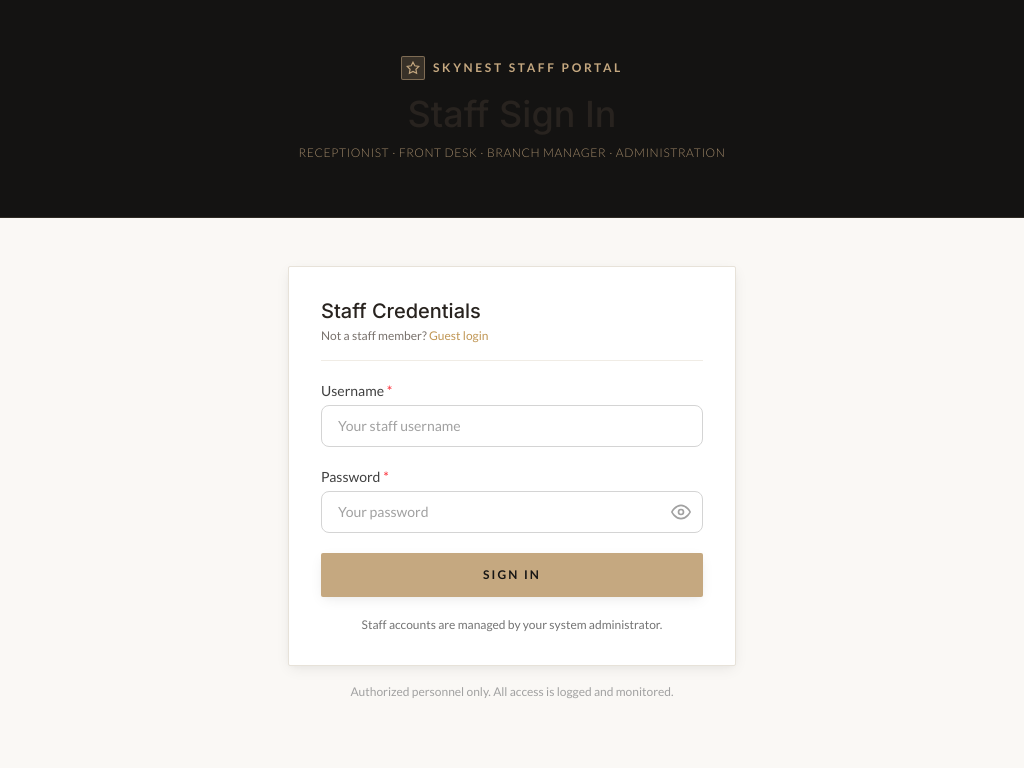
Test: StaffLoginPage - client validation › shows required-field errors when form is submitted empty
Click the button "Sign In". click: [512, 575]
box: [321,553,703,597]
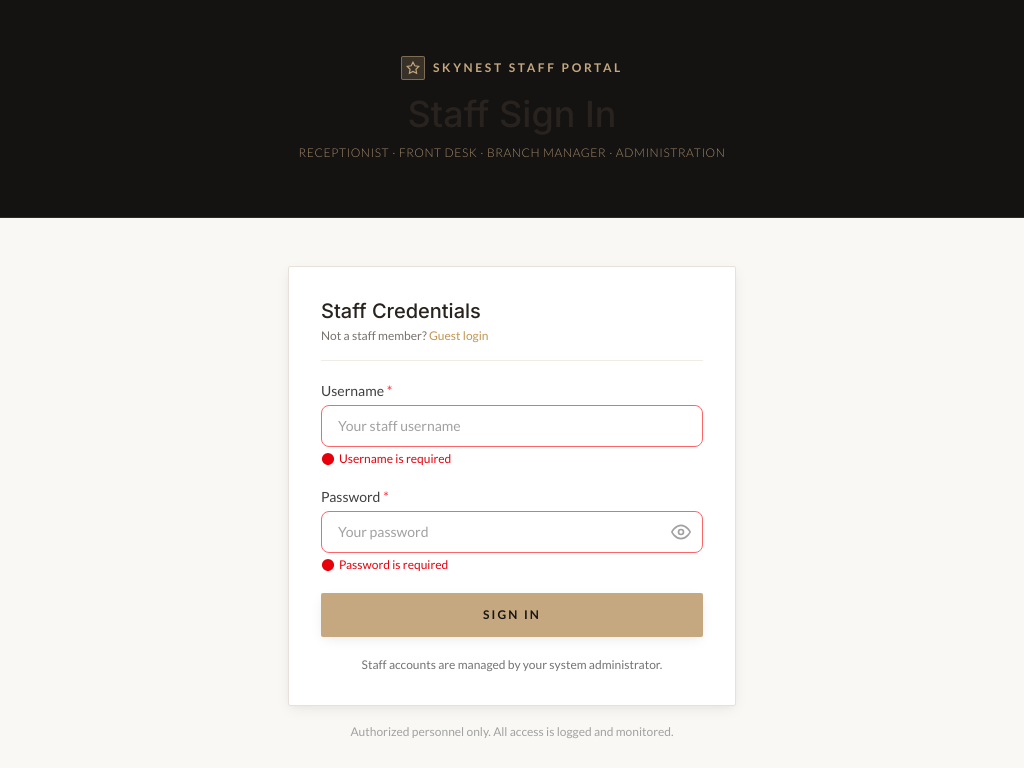
expect the text "Username is required" is shown: met, box [321,451,451,466]
expect the text "Password is required" is shown: met, box [321,557,448,572]
